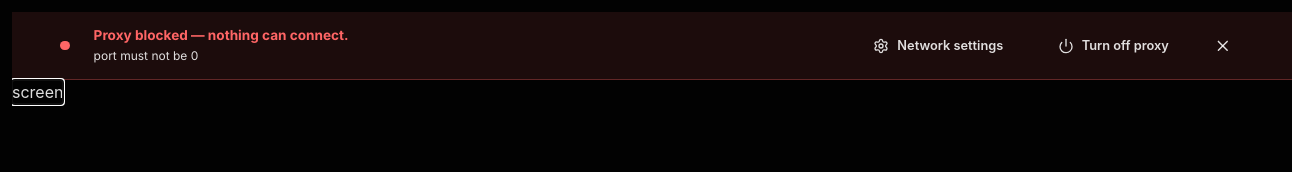
Test case: leaves focus alone when it went away while focus was elsewhere
Click the button named "Dismiss" at [1223, 46], box [1202, 25, 1244, 66]
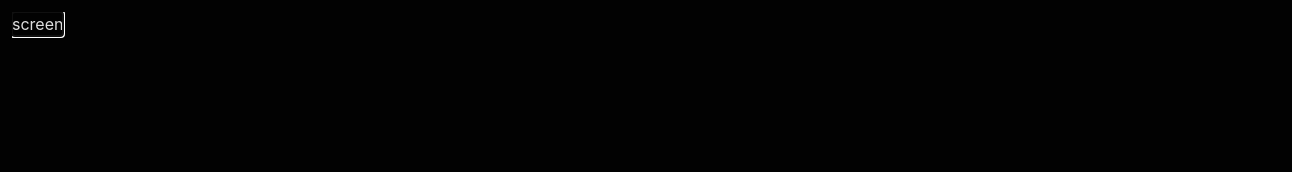
Expected: the message is gone
